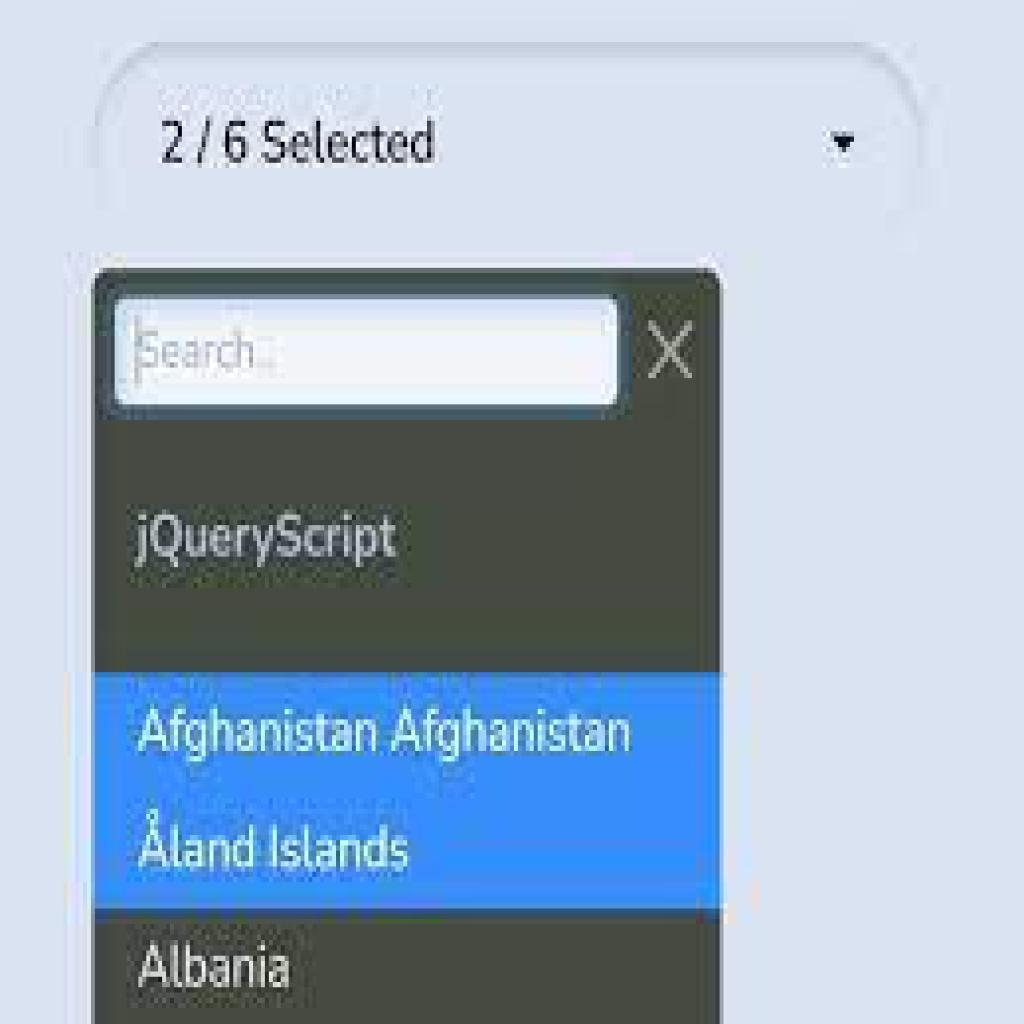button: (94, 676, 724, 909)
dropdown: (94, 39, 928, 250)
icon: (638, 311, 705, 396)
input: (114, 300, 619, 410)
